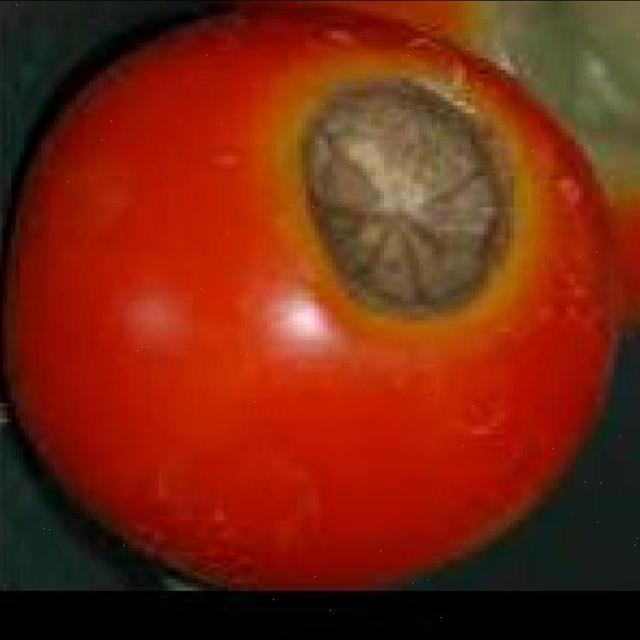Blossom End Rot Fruit: (198, 49, 348, 224)
